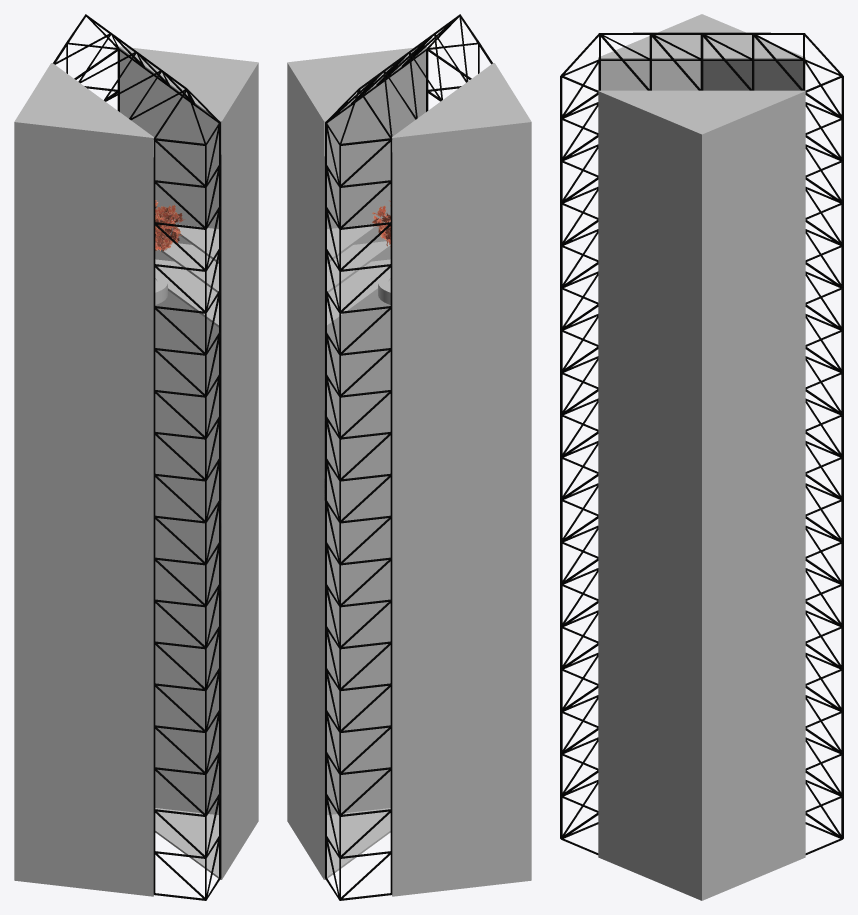
The model's file is Level_Main_Menu_Mesh.fbx.
3 views of the same model, side by side, from view 1: azimuth 30°, elevation 25°; view 2: azimuth 150°, elevation 25°; view 3: azimuth 270°, elevation 25° (orthographic).
Parts seen in each view (by area): view 1: Walls_Mesh, WindowTruss_Mesh, CafeteriaFloor_Mesh, Floor2_Mesh, Tree_mesh, Floor3_Mesh; view 2: Walls_Mesh, WindowTruss_Mesh, CafeteriaFloor_Mesh, Floor2_Mesh, Floor3_Mesh; view 3: Walls_Mesh, WindowTruss_Mesh.
Boxes of the visible parts, box(x1,y1,x2,y2) form: Walls_Mesh: box(14, 46, 258, 896); WindowTruss_Mesh: box(53, 14, 221, 900); CafeteriaFloor_Mesh: box(155, 259, 218, 327); Floor2_Mesh: box(158, 242, 218, 292); Tree_mesh: box(155, 200, 185, 251); Floor3_Mesh: box(176, 224, 218, 263); Walls_Mesh: box(287, 46, 531, 896); WindowTruss_Mesh: box(324, 14, 492, 900); CafeteriaFloor_Mesh: box(327, 259, 390, 327); Floor2_Mesh: box(327, 241, 390, 292); Floor3_Mesh: box(327, 224, 377, 263); Walls_Mesh: box(598, 14, 805, 900); WindowTruss_Mesh: box(560, 32, 843, 854).
Size of the model in its own units: 17715 by 55355 by 17624.
